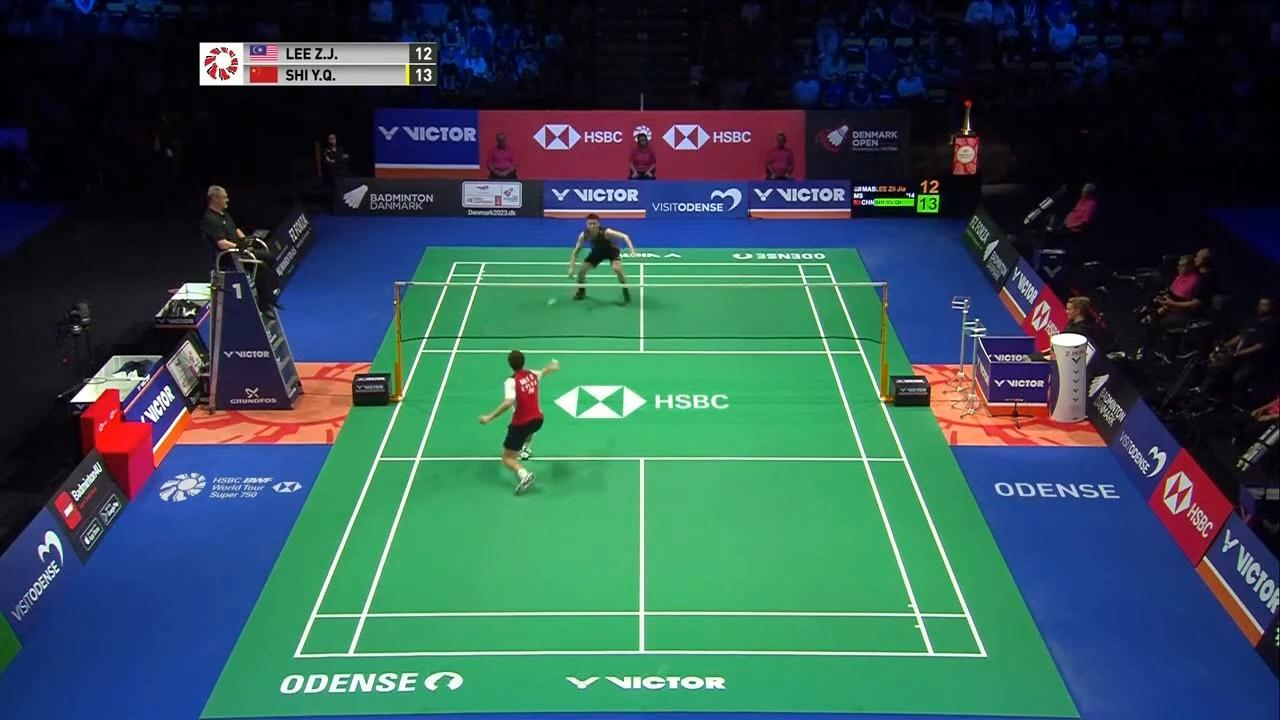shuttle: (547, 295, 559, 310)
